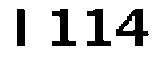1: (43, 5, 77, 51), (84, 7, 113, 49)
4: (116, 4, 150, 49)
l: (9, 5, 31, 51)
